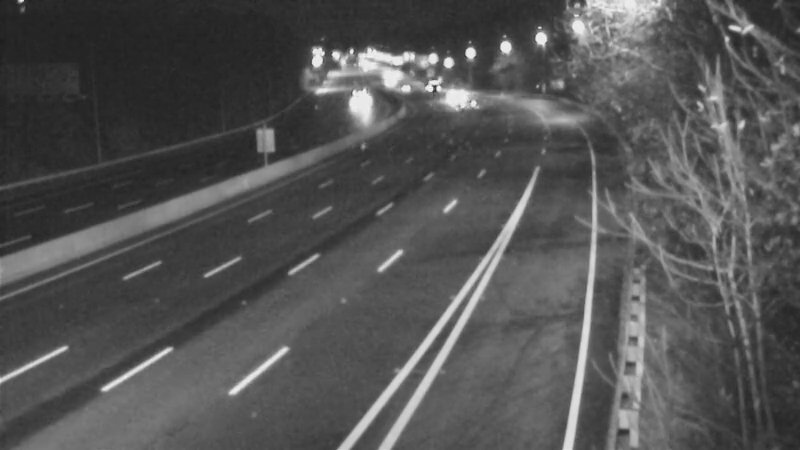vehicle: (411, 59, 461, 109), (379, 65, 429, 115), (427, 68, 477, 118), (443, 78, 493, 128), (329, 77, 379, 127)
